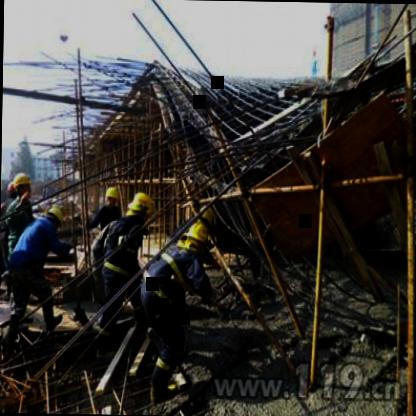helmet: (176, 222, 216, 253), (126, 190, 152, 223), (12, 172, 34, 206), (43, 207, 65, 232), (102, 187, 120, 211)
